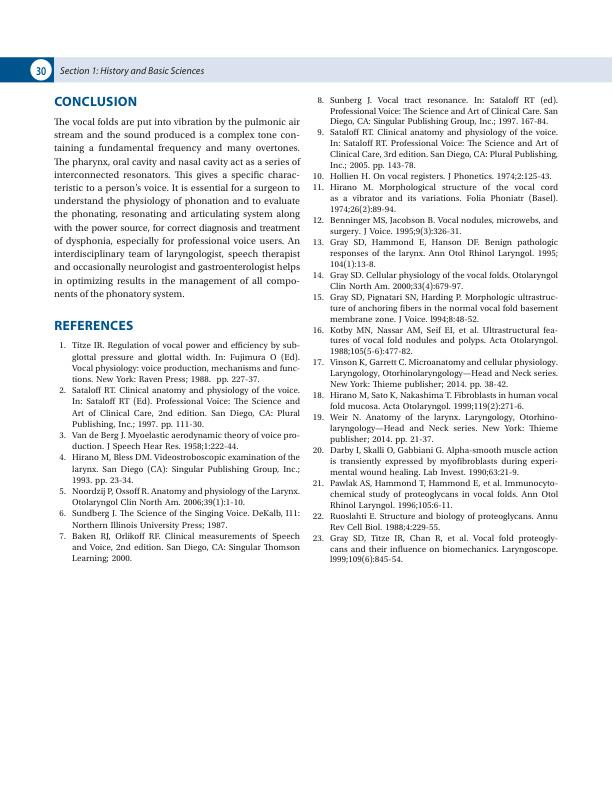header: (59, 66, 205, 76)
list: (310, 93, 560, 566), (57, 339, 301, 565)
section-heading: (53, 318, 134, 332), (53, 95, 138, 107)
text: (53, 116, 300, 301)
